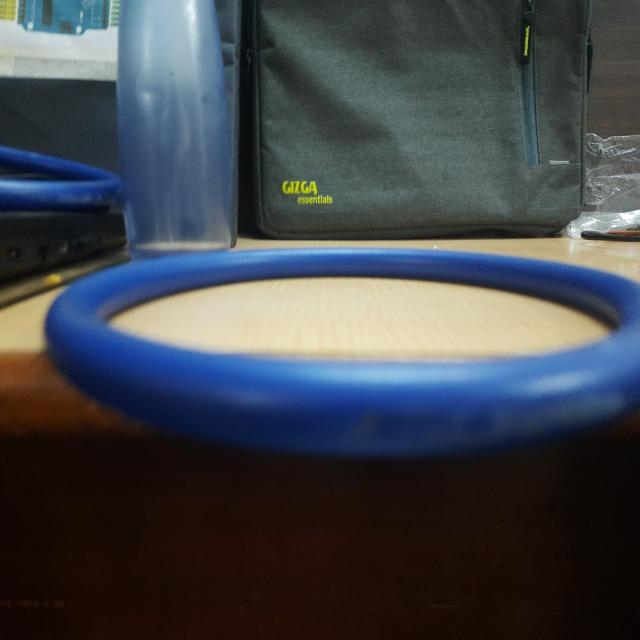daire: (49, 254, 640, 456)
